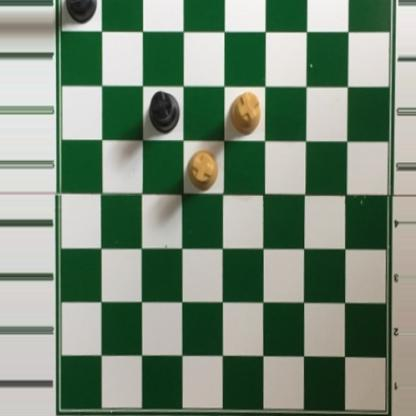black-rook: (148, 90, 181, 134), (58, 0, 99, 25)
white-rook: (228, 91, 260, 137), (185, 149, 216, 193)
